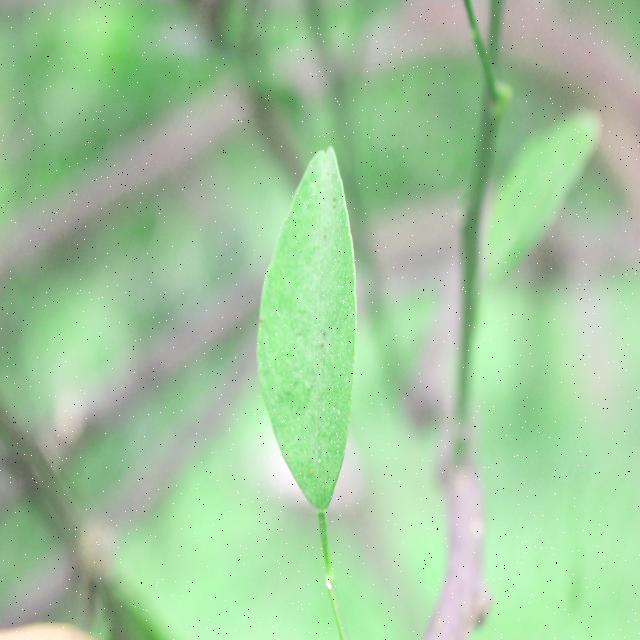blackspot: (264, 168, 360, 487)
